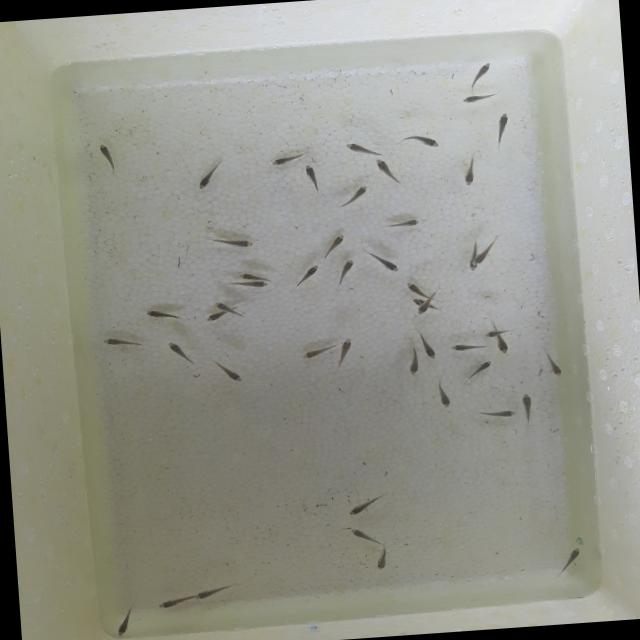fingerling: (364, 244, 400, 274), (109, 604, 139, 638), (466, 59, 494, 89), (211, 359, 244, 384), (338, 183, 369, 207), (374, 156, 400, 184), (213, 234, 255, 251), (165, 338, 192, 364), (94, 141, 118, 170), (346, 497, 379, 518), (492, 110, 511, 146), (558, 544, 584, 570), (193, 164, 219, 190), (464, 358, 493, 381), (195, 584, 236, 600), (338, 336, 357, 370), (144, 306, 184, 322), (294, 262, 322, 284), (544, 350, 564, 380), (400, 277, 430, 297), (382, 215, 422, 230), (99, 335, 138, 350), (297, 342, 329, 360), (518, 389, 536, 421), (323, 230, 348, 253), (156, 596, 197, 610), (336, 256, 358, 282), (462, 155, 479, 188), (343, 140, 378, 156), (458, 90, 498, 104), (422, 334, 442, 362), (435, 382, 455, 410), (232, 269, 275, 282), (302, 163, 321, 192), (346, 526, 376, 544), (234, 278, 270, 292), (268, 154, 304, 167), (448, 339, 478, 354), (412, 134, 440, 150), (482, 408, 516, 420), (406, 349, 421, 376), (373, 550, 391, 572), (201, 309, 225, 325), (480, 328, 506, 340), (494, 340, 511, 356), (212, 298, 230, 310), (414, 304, 431, 316), (470, 254, 484, 266)
